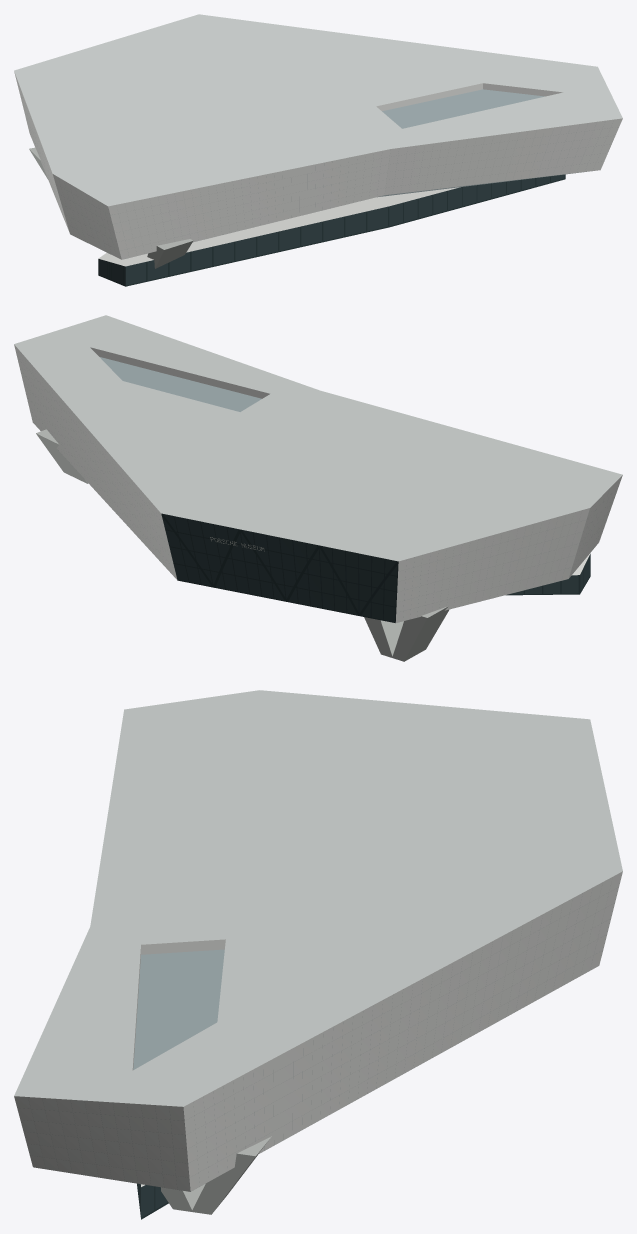
The model's file is porsche-museum-near.glb.
The picture shows the model from 3 angles, top to bottom: view 1: azimuth 30°, elevation 25°; view 2: azimuth 150°, elevation 25°; view 3: azimuth 270°, elevation 25°; orthographic projection. The views are drawn at different scales.
Parts seen in each view (by area): view 1: porsche-museum-0-roof, porsche-museum-0-white, porsche-museum-0-glow, porsche-museum-0-soffit, porsche-museum-0-frame, porsche-museum-0-joint, porsche-museum-0-concrete; view 2: porsche-museum-0-roof, porsche-museum-0-white, porsche-museum-0-glow, porsche-museum-0-frame, porsche-museum-0-concrete, porsche-museum-0-soffit, porsche-museum-0-joint; view 3: porsche-museum-0-roof, porsche-museum-0-white, porsche-museum-0-soffit, porsche-museum-0-joint, porsche-museum-0-concrete.
Part boxes in pixels (x1=…): porsche-museum-0-roof: x1=14, y1=14, x2=622, y2=206; porsche-museum-0-white: x1=14, y1=72, x2=622, y2=266; porsche-museum-0-glow: x1=98, y1=174, x2=564, y2=285; porsche-museum-0-soffit: x1=377, y1=89, x2=592, y2=197; porsche-museum-0-frame: x1=98, y1=174, x2=565, y2=286; porsche-museum-0-joint: x1=21, y1=97, x2=617, y2=258; porsche-museum-0-concrete: x1=29, y1=147, x2=193, y2=268; porsche-museum-0-roof: x1=14, y1=315, x2=622, y2=561; porsche-museum-0-white: x1=14, y1=344, x2=622, y2=622; porsche-museum-0-glow: x1=162, y1=514, x2=590, y2=621; porsche-museum-0-frame: x1=161, y1=513, x2=590, y2=622; porsche-museum-0-concrete: x1=36, y1=429, x2=448, y2=661; porsche-museum-0-soffit: x1=100, y1=357, x2=261, y2=411; porsche-museum-0-joint: x1=19, y1=359, x2=618, y2=621; porsche-museum-0-roof: x1=14, y1=690, x2=622, y2=1106; porsche-museum-0-white: x1=14, y1=871, x2=622, y2=1191; porsche-museum-0-soffit: x1=133, y1=949, x2=224, y2=1069; porsche-museum-0-joint: x1=19, y1=885, x2=617, y2=1191; porsche-museum-0-concrete: x1=161, y1=1136, x2=271, y2=1214.
Size of the model in its own units: 115 by 23 by 71.86.
